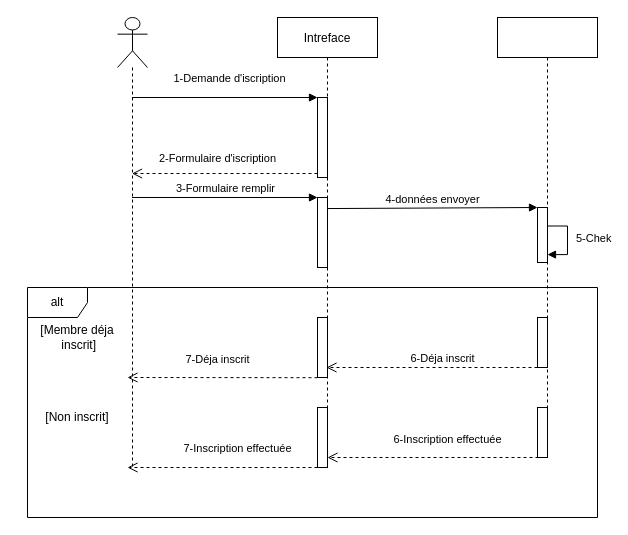
The diagram is 628 pixels wide and 535 high, and some of its shapes have lost their labels. Each missing label, with the box of its shape:
Systeme: (496, 16, 598, 458)
Visiteur: (116, 16, 148, 468)
